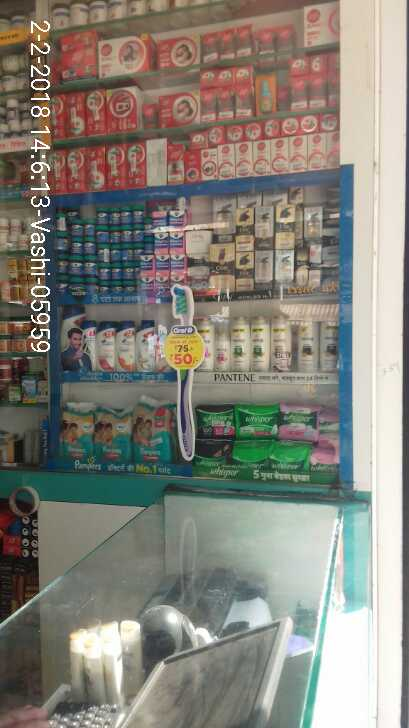beauty: (210, 241, 235, 296), (115, 318, 137, 373), (94, 321, 117, 373), (135, 320, 157, 373), (319, 318, 339, 373), (249, 317, 270, 369), (271, 319, 292, 370), (231, 317, 250, 372), (299, 315, 317, 370), (214, 317, 230, 372), (275, 202, 295, 242), (254, 248, 273, 287), (238, 250, 255, 293), (301, 207, 322, 241), (255, 206, 273, 245), (275, 249, 294, 285), (294, 245, 308, 285), (309, 246, 323, 285), (235, 206, 253, 235)
pharmacy: (133, 398, 174, 462), (93, 405, 134, 461), (60, 403, 93, 461), (235, 405, 279, 440), (277, 405, 319, 440), (195, 405, 234, 436), (194, 438, 233, 464), (94, 207, 147, 225), (95, 226, 148, 243), (95, 243, 142, 262), (59, 255, 94, 277), (151, 211, 187, 229), (66, 236, 95, 258), (99, 262, 132, 281), (154, 250, 183, 271), (99, 281, 136, 296), (152, 232, 183, 248), (69, 219, 95, 238), (154, 270, 168, 292), (139, 275, 156, 293)
